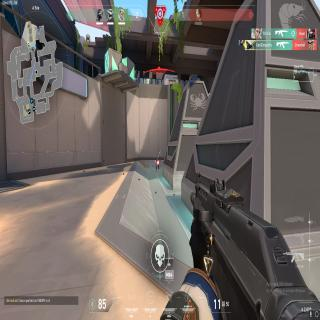ENEMY-BODY: (155, 157, 161, 172)
